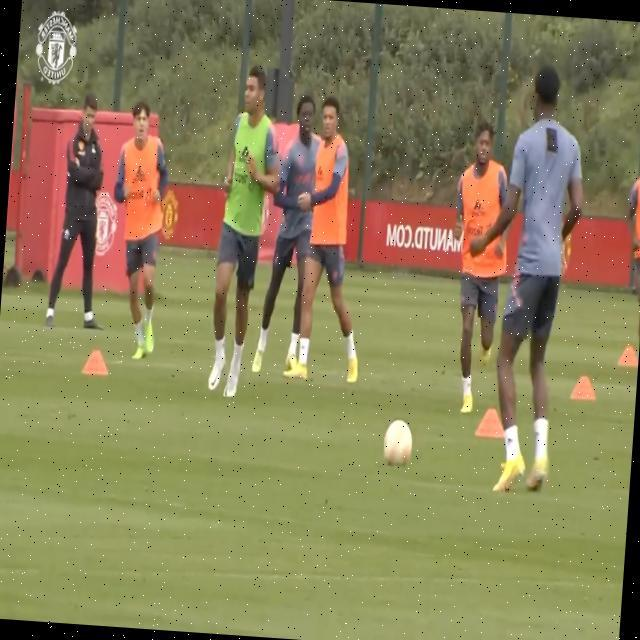Adidas: (470, 195, 487, 218), (237, 140, 252, 166), (132, 163, 146, 185)
